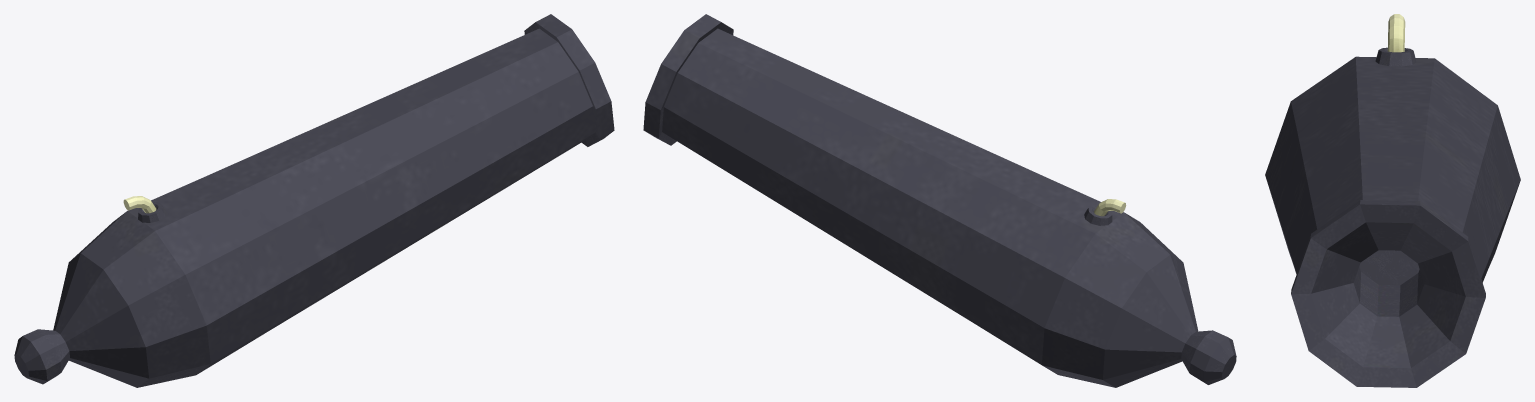
File: Canon.fbx
The picture shows the model from 3 angles, left to right: view 1: azimuth 30°, elevation 25°; view 2: azimuth 150°, elevation 25°; view 3: azimuth 270°, elevation 25°; orthographic projection. The views are drawn at different scales.
Visible parts, largest first — view 1: Canon; view 2: Canon; view 3: Canon.
Part boxes in pixels (x1,y1,x2,y2): Canon: (14, 14, 614, 387); Canon: (643, 14, 1236, 387); Canon: (1265, 14, 1520, 387).
Bounding box in the file's own units: 477 × 202 × 133.
